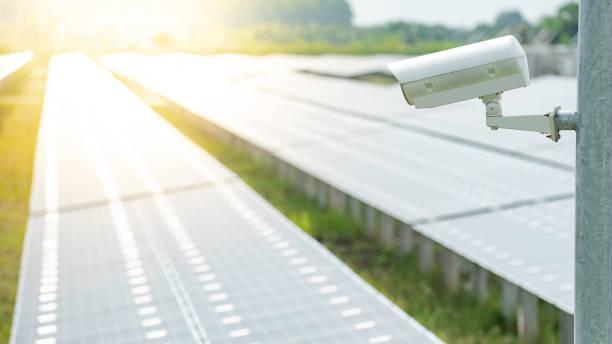camera: (369, 25, 537, 133)
